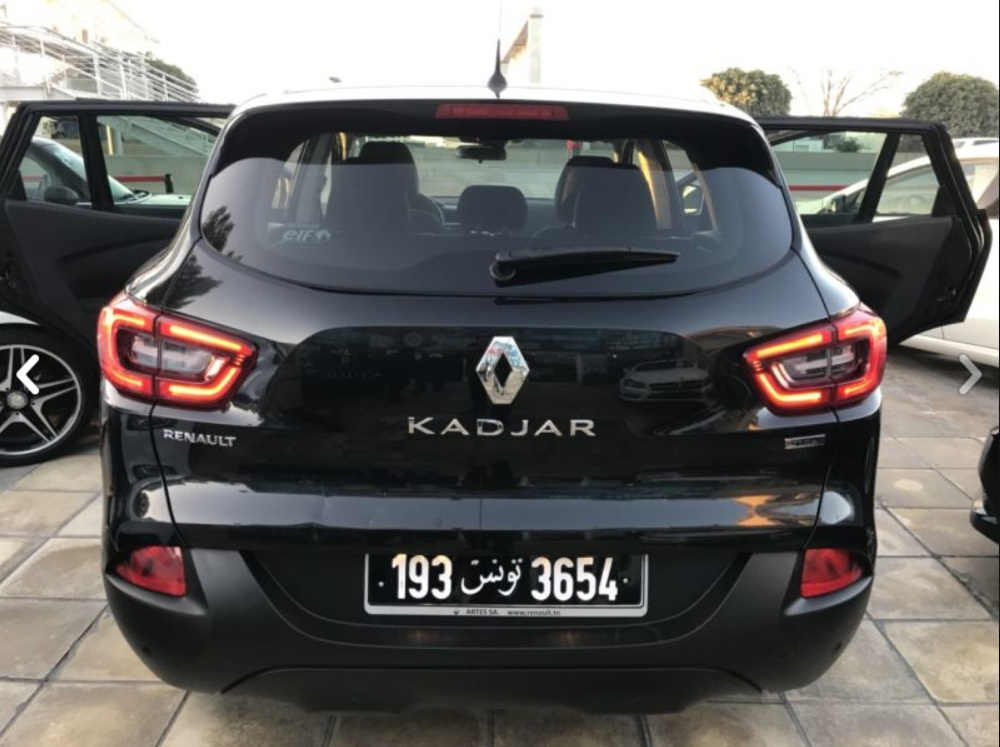LP: (367, 547, 648, 610)
